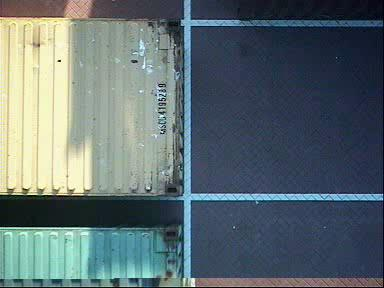groundmarker_2: (113, 174, 145, 223)
